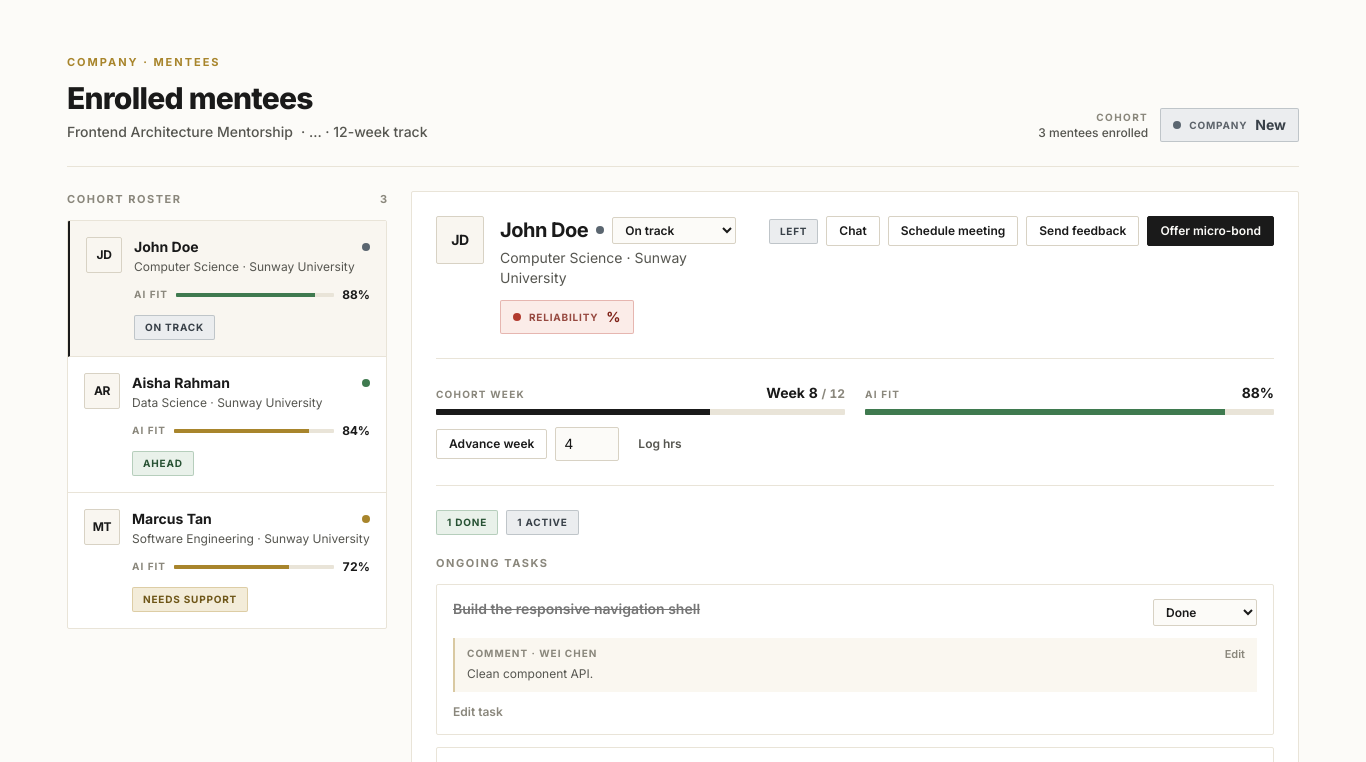
Test: Mentees › swaps the detail panel when another mentee is selected
This screenshot has width=1366, height=762.
Click the button "Aisha Rahman".
click(102, 390)  # box [68,356,386,492]
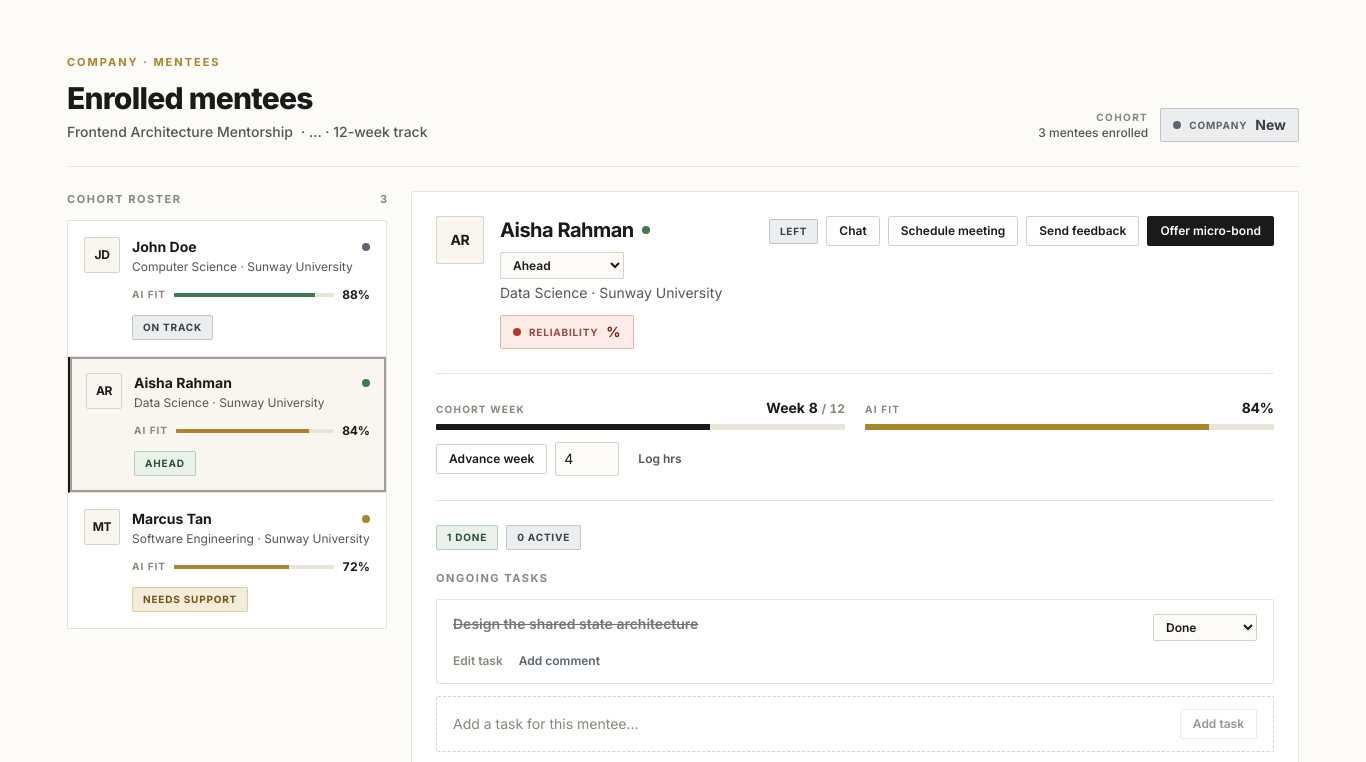
Check: the heading "Aisha Rahman" is shown, box [500,216,634,244]
Check: the text "Design the shared state architecture" is shown, box [453,614,698,634]
